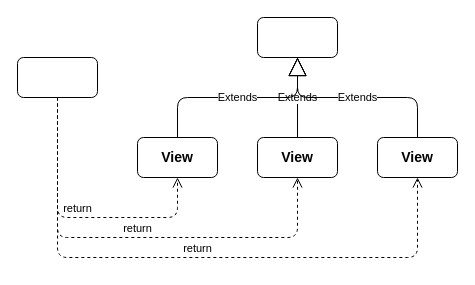
Image size: 475x285. Some labels were removed from this diagram. Here are the shapes that lost their labels. From the top down, the box of each, then its label:
(256, 16, 338, 58): AbstractView
(16, 56, 98, 98): Controller
